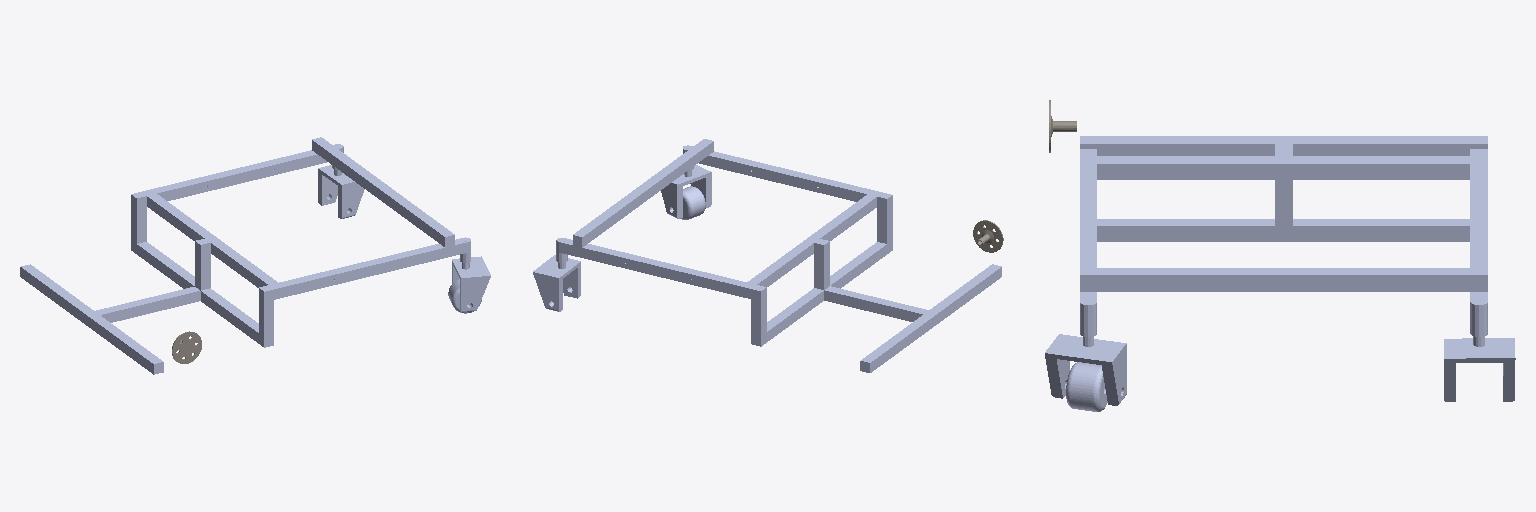
robot.urdf — mowbot:
<?xml version="1.0" encoding="utf-8"?>
<!-- This URDF was automatically created by SolidWorks to URDF Exporter! Originally created by [author] ([email redacted]) 
     Commit Version: 1.6.0-1-g15f4949  Build Version: 1.6.7594.29634
     For more information, please see http://wiki.ros.org/sw_urdf_exporter -->
<robot
  name="mowbot">
  <link
    name="base_link">
    <inertial>
      <origin
        xyz="-1.07242311207568 -0.466809806679582 0.659283164452566"
        rpy="0 0 0" />
      <mass
        value="8.43639227238404" />
      <inertia
        ixx="0.784903759828431"
        ixy="1.08647410463089E-16"
        ixz="-0.0262712397999976"
        iyy="0.513799136067179"
        iyz="1.23371178281576E-16"
        izz="1.27862934221056" />
    </inertial>
    <visual>
      <origin
        xyz="0 0 0"
        rpy="0 0 0" />
      <geometry>
        <mesh
          filename="package://mowbot/meshes/base_link.STL" />
      </geometry>
      <material
        name="">
        <color
          rgba="0.792156862745098 0.819607843137255 0.933333333333333 1" />
      </material>
    </visual>
    <collision>
      <origin
        xyz="0 0 0"
        rpy="0 0 0" />
      <geometry>
        <mesh
          filename="package://mowbot/meshes/base_link_collision.STL" />
      </geometry>
    </collision>
  </link>
  <link
    name="Left_back_link">
    <inertial>
      <origin
        xyz="0 -0.0516944479368262 1.11022302462516E-16"
        rpy="0 0 0" />
      <mass
        value="0.457406434462016" />
      <inertia
        ixx="0.000379865320962435"
        ixy="-1.54964957447487E-20"
        ixz="2.00126009449548E-20"
        iyy="0.000605566845786777"
        iyz="-6.37303443690943E-20"
        izz="0.000379865320962435" />
    </inertial>
    <visual>
      <origin
        xyz="0 0 0"
        rpy="0 0 0" />
      <geometry>
        <mesh
          filename="package://mowbot/meshes/Left_back_link.STL" />
      </geometry>
      <material
        name="">
        <color
          rgba="0.647058823529412 0.619607843137255 0.588235294117647 1" />
      </material>
    </visual>
    <collision>
      <origin
        xyz="0 0 0"
        rpy="0 0 0" />
      <geometry>
        <mesh
          filename="package://mowbot/meshes/Left_back_link_collision.STL" />
      </geometry>
    </collision>
  </link>
  <joint
    name="Left_drive_wheel"
    type="continuous">
    <origin
      xyz="-1.5557647261818 -0.0239997866795825 0.637929355601164"
      rpy="0 0 3.14159265358979" />
    <parent
      link="base_link" />
    <child
      link="Left_back_link" />
    <axis
      xyz="0 1 0" />
    <limit
      effort="14.08"
      velocity="12.47" />
  </joint>
  <link
    name="Right_back_link">
    <inertial>
      <origin
        xyz="0.0516944479368262 0 0"
        rpy="0 0 0" />
      <mass
        value="0.457406434462017" />
      <inertia
        ixx="0.000605566845786777"
        ixy="-4.58516233398706E-20"
        ixz="-1.43845439279668E-20"
        iyy="0.000379865320962435"
        iyz="6.69809501014815E-20"
        izz="0.000379865320962436" />
    </inertial>
    <visual>
      <origin
        xyz="0 0 0"
        rpy="0 0 0" />
      <geometry>
        <mesh
          filename="package://mowbot/meshes/Right_back_link.STL" />
      </geometry>
      <material
        name="">
        <color
          rgba="0.647058823529412 0.619607843137255 0.588235294117647 1" />
      </material>
    </visual>
    <collision>
      <origin
        xyz="0 0 0"
        rpy="0 0 0" />
      <geometry>
        <mesh
          filename="package://mowbot/meshes/Right_back_link_collision.STL" />
      </geometry>
    </collision>
  </link>
  <joint
    name="Right_drive_wheel"
    type="continuous">
    <origin
      xyz="-1.5557647261818 -0.910799826679582 0.637929355601164"
      rpy="0 0 -1.5707963267949" />
    <parent
      link="base_link" />
    <child
      link="Right_back_link" />
    <axis
      xyz="-1 0 0" />
    <limit
      effort="14.08"
      velocity="12.47" />
  </joint>
  <link
    name="Front_right_wheel">
    <inertial>
      <origin
        xyz="-0.0362351705056738 0.011773802207645 -1.11022302462516E-16"
        rpy="0 0 0" />
      <mass
        value="0.572204494653308" />
      <inertia
        ixx="0.000736746749851423"
        ixy="-3.31369879620031E-05"
        ixz="1.207002854401E-20"
        iyy="0.000645531144479367"
        iyz="-3.92188381438836E-21"
        izz="0.000634764026881268" />
    </inertial>
    <visual>
      <origin
        xyz="0 0 0"
        rpy="0 0 0" />
      <geometry>
        <mesh
          filename="package://mowbot/meshes/Front_right_wheel.STL" />
      </geometry>
      <material
        name="">
        <color
          rgba="0.792156862745098 0.819607843137255 0.933333333333333 1" />
      </material>
    </visual>
    <collision>
      <origin
        xyz="0 0 0"
        rpy="0 0 0" />
      <geometry>
        <mesh
          filename="package://mowbot/meshes/Front_right_wheel_collision.STL" />
      </geometry>
    </collision>
  </link>
  <joint
    name="Front_right_joint"
    type="continuous">
    <origin
      xyz="-0.464729503013041 -0.921595533082233 0.535629355461464"
      rpy="0 0 -1.5707963267949" />
    <parent
      link="base_link" />
    <child
      link="Front_right_wheel" />
    <axis
      xyz="-0.95105434398094 0.309023679990682 0" />
  </joint>
  <link
    name="Front_left_wheel">
    <inertial>
      <origin
        xyz="0.0380933250274411 0.000713153807905376 0"
        rpy="0 0 0" />
      <mass
        value="0.572204494653308" />
      <inertia
        ixx="0.000747474364238742"
        ixy="2.1100758786185E-06"
        ixz="-2.22480801212241E-20"
        iyy="0.000634803530092046"
        iyz="-5.65057302719004E-21"
        izz="0.000634764026881268" />
    </inertial>
    <visual>
      <origin
        xyz="0 0 0"
        rpy="0 0 0" />
      <geometry>
        <mesh
          filename="package://mowbot/meshes/Front_left_wheel.STL" />
      </geometry>
      <material
        name="">
        <color
          rgba="0.792156862745098 0.819607843137255 0.933333333333333 1" />
      </material>
    </visual>
    <collision>
      <origin
        xyz="0 0 0"
        rpy="0 0 0" />
      <geometry>
        <mesh
          filename="package://mowbot/meshes/Front_left_wheel_collision.STL" />
      </geometry>
    </collision>
  </link>
  <joint
    name="Front_left_caster_wheel"
    type="continuous">
    <origin
      xyz="-0.453755568490983 -0.00964976216317706 0.535629355461463"
      rpy="0 0 -1.5707963267949" />
    <parent
      link="base_link" />
    <child
      link="Front_left_wheel" />
    <axis
      xyz="-0.999824803869845 -0.0187179477140518 0" />
  </joint>
  <link
    name="Front_right_pivot">
    <inertial>
      <origin
        xyz="0.00312127257340478 0.00960663401184786 -0.138503316862634"
        rpy="0 0 0" />
      <mass
        value="0.653153653717284" />
      <inertia
        ixx="0.00187148737171852"
        ixy="0.000481271649470043"
        ixz="-3.57978459347905E-05"
        iyy="0.00319627975514256"
        iyz="-0.000110145417942268"
        izz="0.00245508069726112" />
    </inertial>
    <visual>
      <origin
        xyz="0 0 0"
        rpy="0 0 0" />
      <geometry>
        <mesh
          filename="package://mowbot/meshes/Front_right_pivot.STL" />
      </geometry>
      <material
        name="">
        <color
          rgba="0.792156862745098 0.819607843137255 0.933333333333333 1" />
      </material>
    </visual>
    <collision>
      <origin
        xyz="0 0 0"
        rpy="0 0 0" />
      <geometry>
        <mesh
          filename="package://mowbot/meshes/Front_right_pivot_collision.STL" />
      </geometry>
    </collision>
  </link>
  <joint
    name="Right_caster_wheel_pivot"
    type="revolute">
    <origin
      xyz="-0.451264726181797 -0.885909806679583 0.738829355461464"
      rpy="0 0 -1.5707963267949" />
    <parent
      link="base_link" />
    <child
      link="Front_right_pivot" />
    <axis
      xyz="0 0 -1" />
    <limit
      lower="0"
      upper="0"
      effort="0"
      velocity="0" />
  </joint>
  <link
    name="front_left_pivot">
    <inertial>
      <origin
        xyz="-0.000189247104649092 0.0100992051691441 -0.138503316862633"
        rpy="0 0 0" />
      <mass
        value="0.65315365371728" />
      <inertia
        ixx="0.0017156831912875"
        ixy="-3.06474534539607E-05"
        ixz="2.15969712554334E-06"
        iyy="0.00335208393557355"
        iyz="-0.000115796522294816"
        izz="0.00245508069726111" />
    </inertial>
    <visual>
      <origin
        xyz="0 0 0"
        rpy="0 0 0" />
      <geometry>
        <mesh
          filename="package://mowbot/meshes/front_left_pivot.STL" />
      </geometry>
      <material
        name="">
        <color
          rgba="0.792156862745098 0.819607843137255 0.933333333333333 1" />
      </material>
    </visual>
    <collision>
      <origin
        xyz="0 0 0"
        rpy="0 0 0" />
      <geometry>
        <mesh
          filename="package://mowbot/meshes/front_left_pivot_collision.STL" />
      </geometry>
    </collision>
  </link>
  <joint
    name="Left_pivot_joint"
    type="revolute">
    <origin
      xyz="-0.451264726181797 -0.0477098066795826 0.738829355461464"
      rpy="0 0 -1.5707963267949" />
    <parent
      link="base_link" />
    <child
      link="front_left_pivot" />
    <axis
      xyz="0 0 -1" />
    <limit
      lower="0"
      upper="0"
      effort="0"
      velocity="0" />
  </joint>
</robot>

--- What the picture shows (computed from the rendered views, not written in the file) ---
Views: 3 orthographic renders of the robot side by side, from view 1: azimuth 30°, elevation 25°; view 2: azimuth 150°, elevation 25°; view 3: azimuth 270°, elevation 25°.
Model mowbot with 7 links and 6 joints (2 revolute, 4 continuous), rooted at base_link, posed all joints at 0.
Links seen in each view (by area): view 1: base_link, front_left_pivot, Front_right_pivot, Right_back_link; view 2: base_link, front_left_pivot, Front_right_pivot, Right_back_link, Front_right_wheel; view 3: base_link, Front_right_pivot, front_left_pivot, Front_right_wheel.
Boxes of the visible links, x1,y1,x2,y2 form: base_link: (20,137,470,374); front_left_pivot: (318,145,364,218); Front_right_pivot: (452,238,490,312); Right_back_link: (172,331,201,363); base_link: (556,139,1001,372); front_left_pivot: (533,238,580,311); Front_right_pivot: (661,146,711,218); Right_back_link: (973,220,1003,252); Front_right_wheel: (680,186,705,219); base_link: (1080,136,1487,336); Front_right_pivot: (1045,299,1126,405); front_left_pivot: (1444,299,1515,401); Front_right_wheel: (1066,362,1107,411).
Bounding box of the posed robot: 1.28 × 1.01 × 0.2921 m (x, y, z).
5 mesh visuals loaded from 7 distinct referenced files (5 binary STL); not drawn: 2 (reference not matched to a file when rendering).